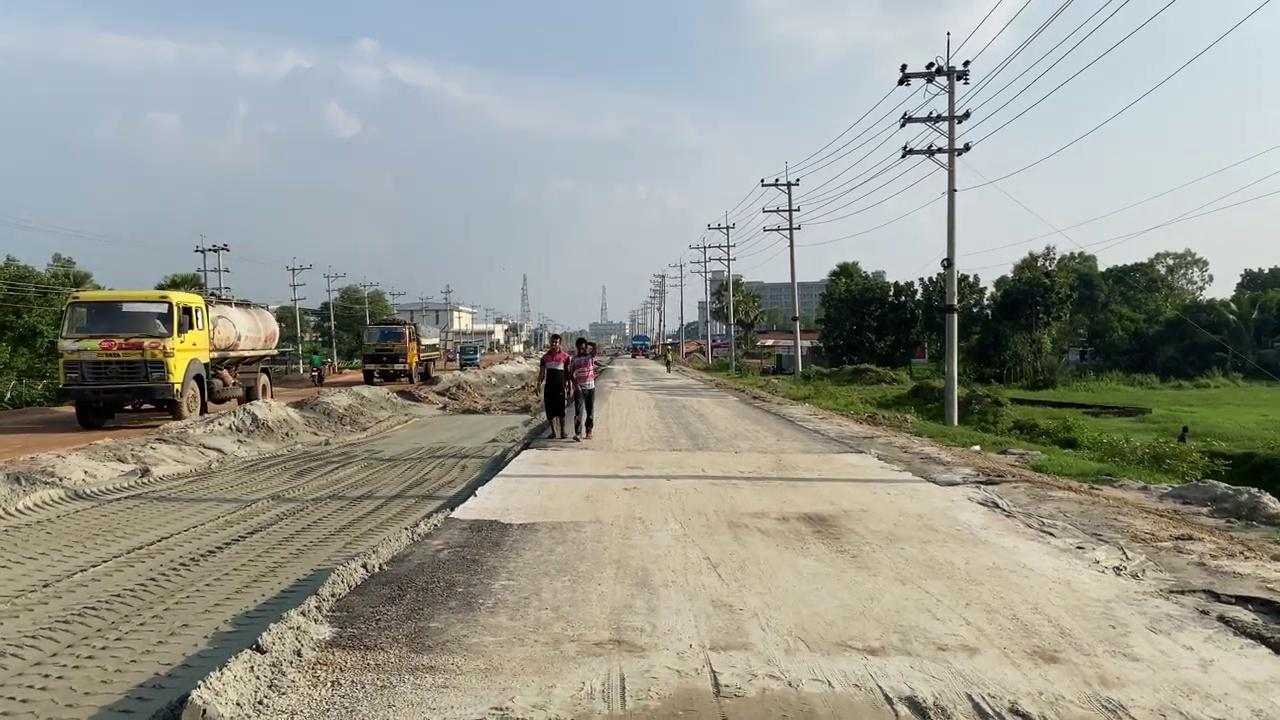Light-pole: (896, 31, 972, 426)
Muddy road: (0, 366, 546, 717)
Pole: (760, 163, 803, 378), (942, 32, 960, 426)
Rickshaw: (183, 348, 1278, 718)
Traffic-sign: (708, 273, 765, 357)
Tree: (55, 288, 280, 430), (360, 318, 440, 385), (458, 343, 481, 369), (630, 333, 650, 358)
